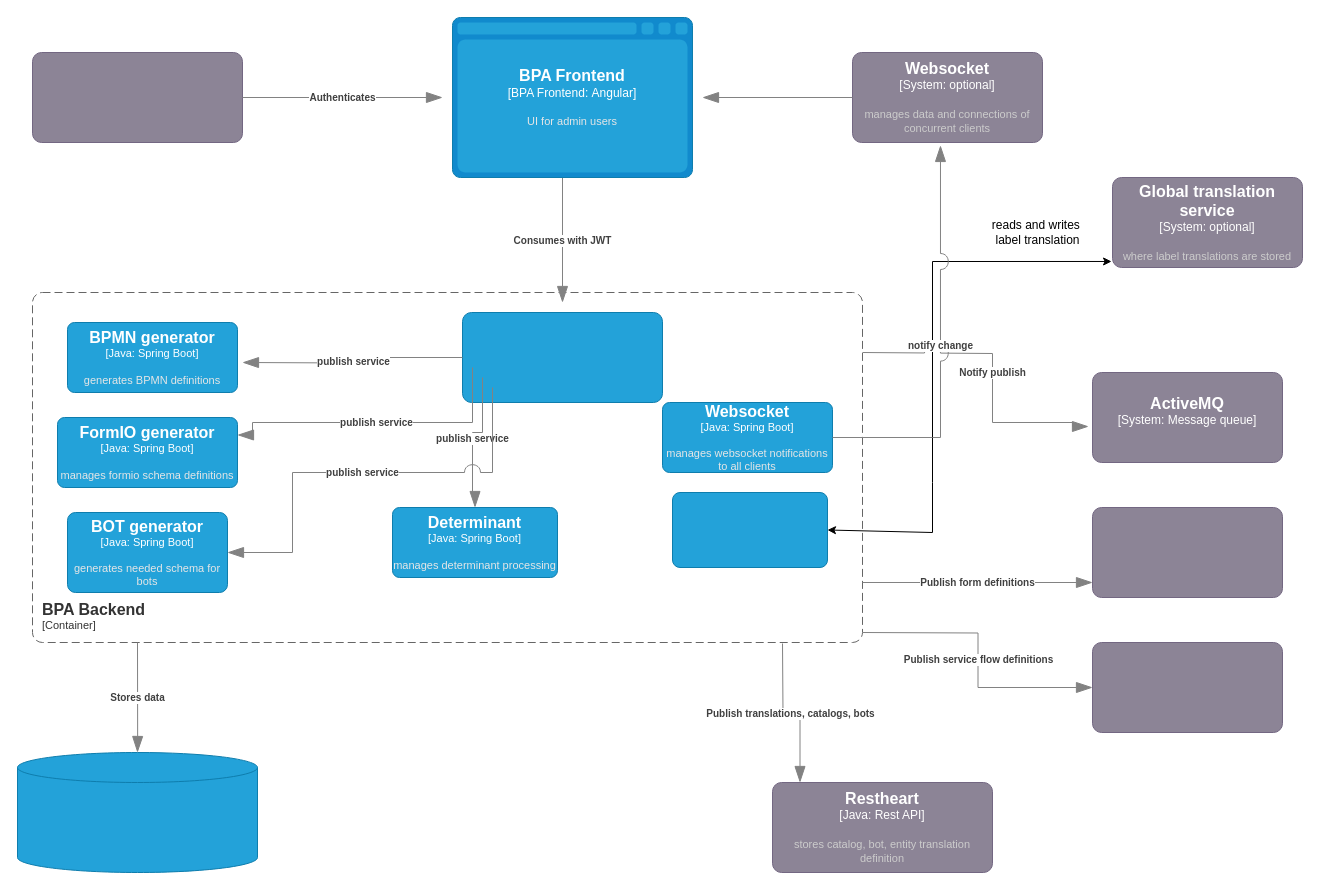
Image size: 1320x890. Some labels were removed from this diagram. Each missing label, with the centre of its shape:
API [Java: Spring Boot] REST API: (562,357)
Camunda [System: Java] Holds service flow definitions: (1187,687)
Database [Database: ] stores data: (137,812)
Formio [System: nodejs] Holds form definitions: (1187,552)
Keycloak [Authentication] OpenId Connect server: (137,97)
Translations [Java: Spring Boot] manages entity and label translations: (750,530)
